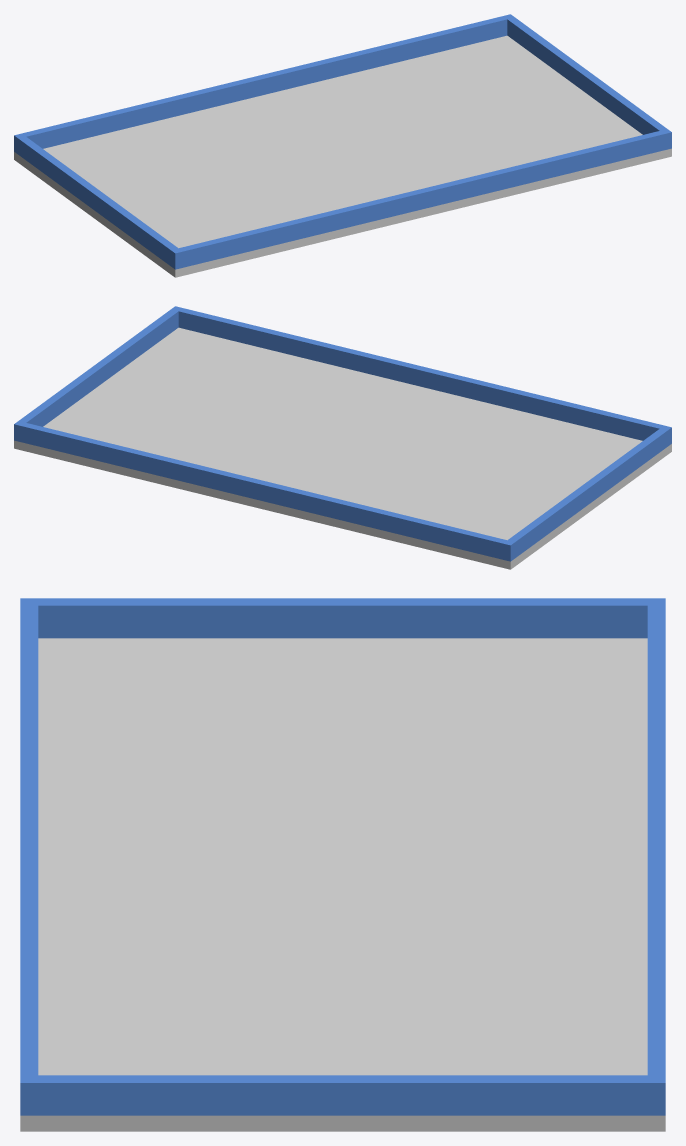
Rendered from Field.fbx.
3 renders of one model, top to bottom at view 1: azimuth 30°, elevation 25°; view 2: azimuth 150°, elevation 25°; view 3: azimuth 270°, elevation 25°, orthographic. The views are drawn at different scales.
Visible parts, largest first — view 1: Field, Left Wall, Right Wall, Upper Wall, Bottom Wall; view 2: Field, Right Wall, Left Wall, Upper Wall, Bottom Wall; view 3: Field, Bottom Wall, Upper Wall, Left Wall, Right Wall.
Part boxes in pixels (x1,y1,x2,y2): Field: [14, 35, 671, 277]; Left Wall: [175, 131, 671, 269]; Right Wall: [15, 14, 510, 148]; Upper Wall: [14, 135, 178, 269]; Bottom Wall: [507, 14, 671, 134]; Field: [14, 327, 671, 569]; Right Wall: [14, 423, 510, 561]; Left Wall: [175, 306, 670, 440]; Upper Wall: [507, 427, 671, 561]; Bottom Wall: [14, 306, 178, 426]; Field: [20, 638, 665, 1131]; Bottom Wall: [20, 1075, 665, 1115]; Upper Wall: [21, 598, 664, 638]; Left Wall: [20, 598, 38, 1082]; Right Wall: [647, 598, 665, 1082].
Size of the model in its own units: 640 by 30 by 360.
